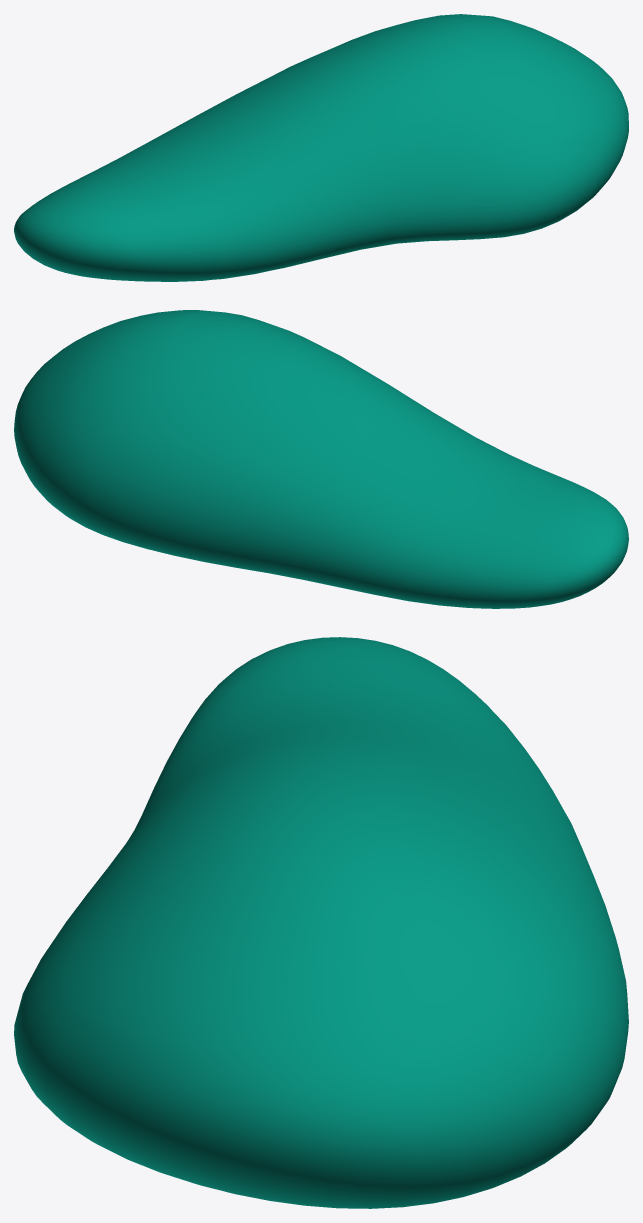
The model's file is stone_2.fbx.
The picture shows the model from 3 angles, top to bottom: view 1: azimuth 30°, elevation 25°; view 2: azimuth 150°, elevation 25°; view 3: azimuth 270°, elevation 25°; orthographic projection. The views are drawn at different scales.
Visible parts, largest first — view 1: stone_2; view 2: stone_2; view 3: stone_2.
Boxes of the visible parts, x1=… form: stone_2: x1=14, y1=14, x2=628, y2=281; stone_2: x1=14, y1=310, x2=628, y2=608; stone_2: x1=14, y1=637, x2=628, y2=1208.
Bounding box in the file's own units: 126 × 35.98 × 64.2.
